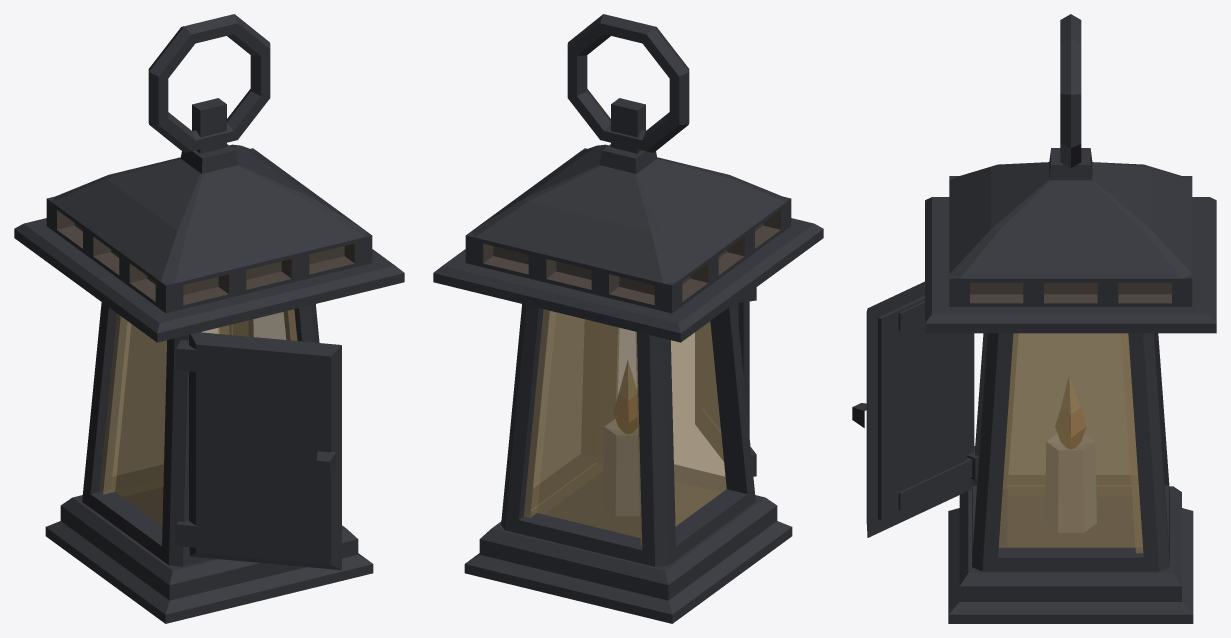
The model's file is mask.glb.
The picture shows the model from 3 angles, left to right: view 1: azimuth 30°, elevation 25°; view 2: azimuth 150°, elevation 25°; view 3: azimuth 270°, elevation 25°; orthographic projection. The views are drawn at different scales.
Visible parts, largest first — view 1: hooded-lantern-mesh, shutter-leaf-mesh, horn-pane-mesh, carry-ring-mesh; view 2: hooded-lantern-mesh, horn-pane-mesh, carry-ring-mesh, shutter-leaf-mesh, candle-mesh, candle-flame-mesh; view 3: hooded-lantern-mesh, horn-pane-mesh, shutter-leaf-mesh, candle-mesh, carry-ring-mesh, candle-flame-mesh.
Part boxes in pixels (x1,y1,x2,y2): hooded-lantern-mesh: (14,98,404,623); shutter-leaf-mesh: (176,332,341,570); horn-pane-mesh: (99,309,297,526); carry-ring-mesh: (148,14,270,152); hooded-lantern-mesh: (433,98,823,623); horn-pane-mesh: (523,309,726,544); carry-ring-mesh: (567,14,689,152); shutter-leaf-mesh: (695,287,756,476); candle-mesh: (603,419,639,515); candle-flame-mesh: (613,361,637,433); hooded-lantern-mesh: (925,148,1216,623); horn-pane-mesh: (998,333,1143,553); shutter-leaf-mesh: (852,281,978,537); candle-mesh: (1045,434,1096,532); carry-ring-mesh: (1060,14,1081,168); candle-flame-mesh: (1055,376,1086,448).
Size of the model in its own units: 0.168 by 0.3466 by 0.2099.
